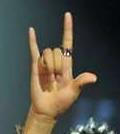back: (25, 9, 99, 113)
